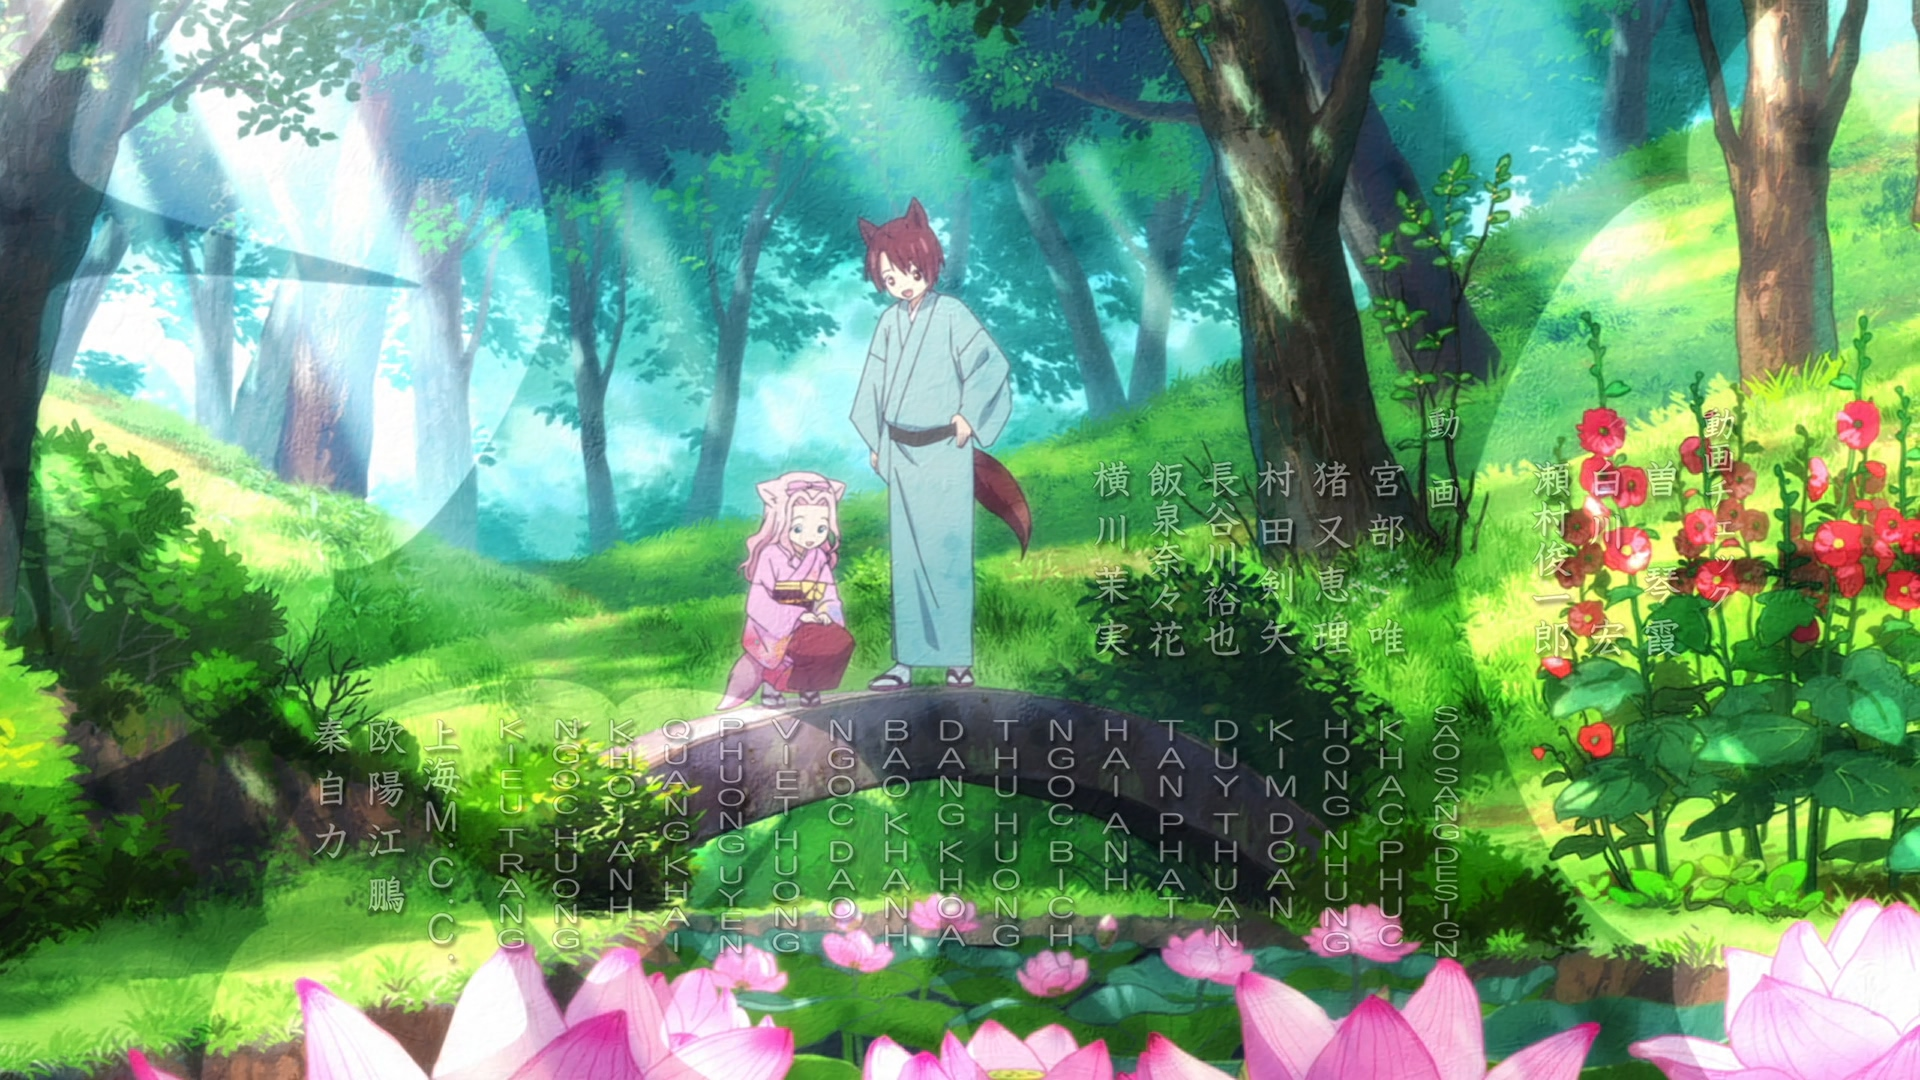枣: (848, 196, 1033, 691)
莲: (717, 472, 856, 715)
